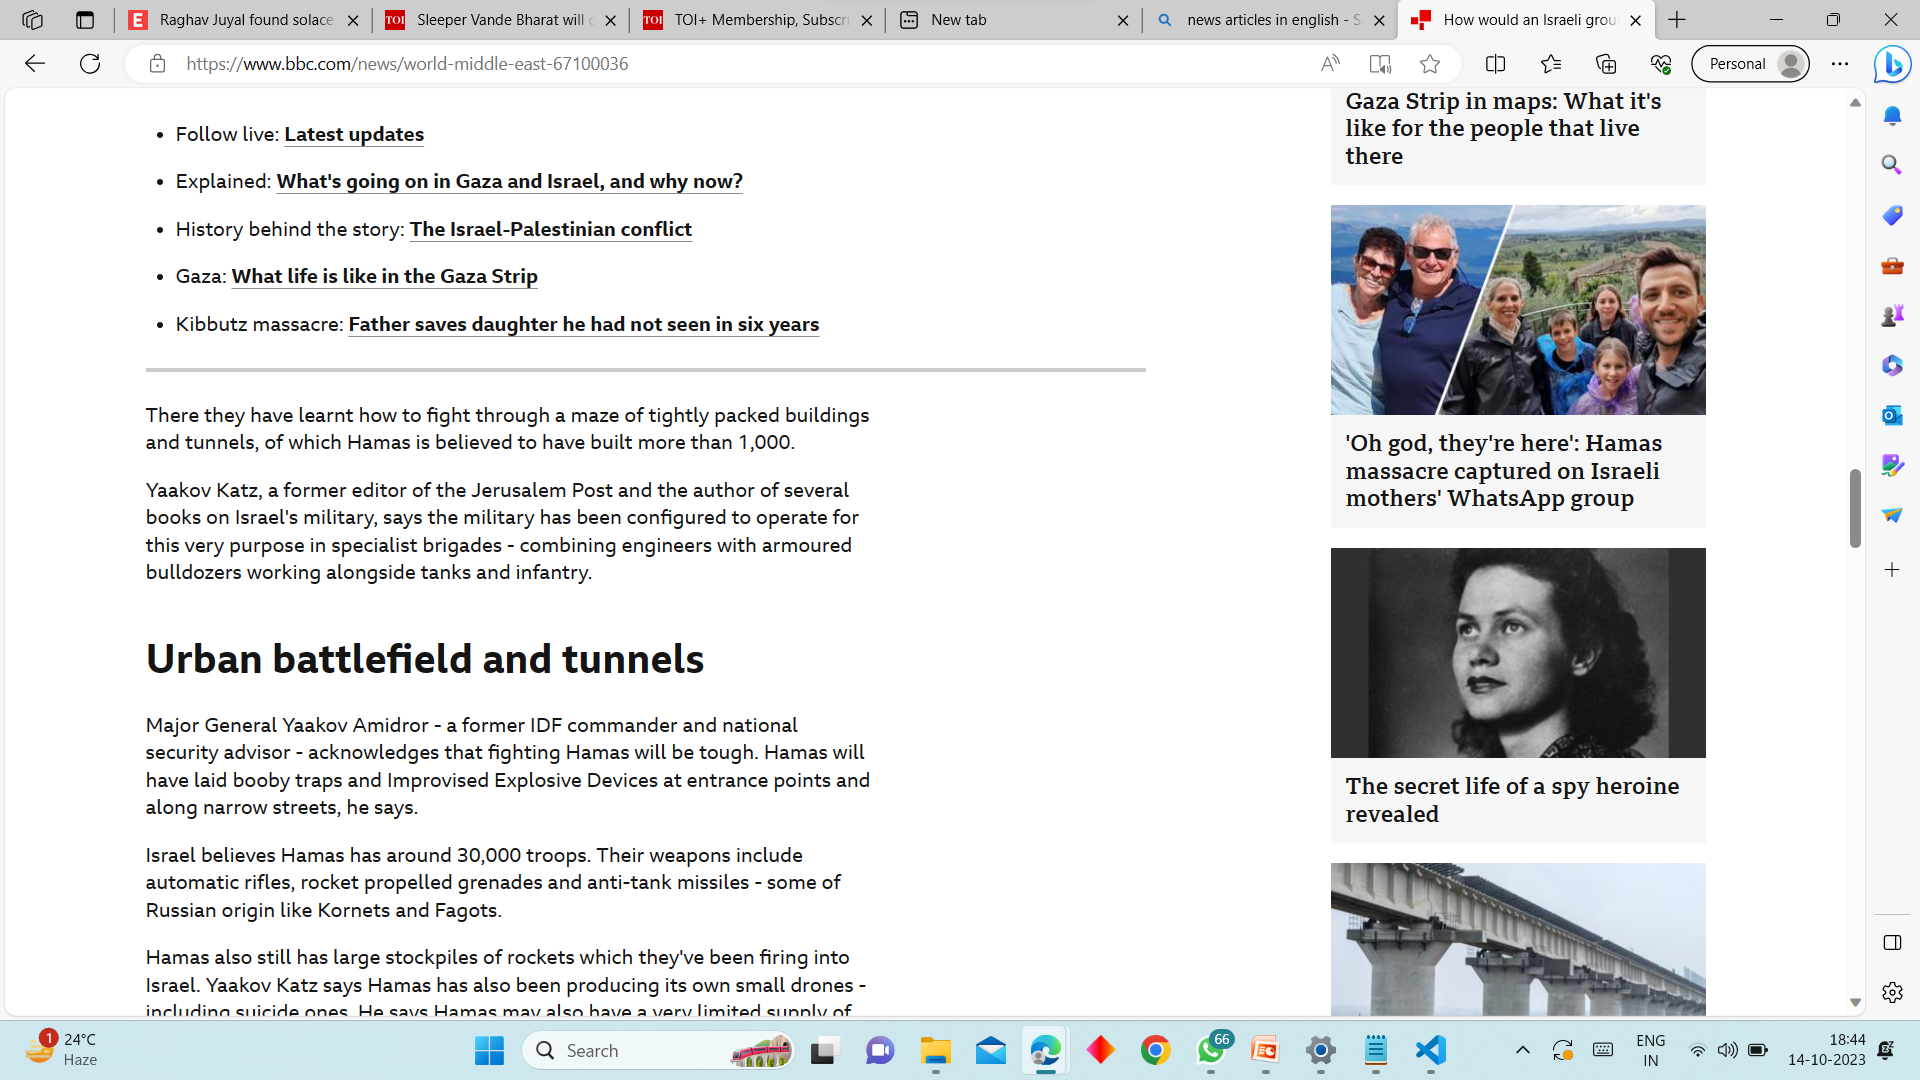Image: (1337, 199, 1706, 415), (1335, 547, 1708, 753), (1331, 861, 1697, 1019)
Paragraph: (141, 709, 932, 827), (144, 473, 870, 592), (128, 389, 884, 465), (141, 845, 852, 923), (141, 939, 874, 1010), (148, 621, 723, 694), (1331, 415, 1704, 514), (1340, 83, 1697, 186), (145, 302, 829, 353), (1335, 765, 1688, 843), (150, 165, 767, 199), (148, 253, 592, 298), (158, 210, 717, 244), (128, 116, 473, 157)
